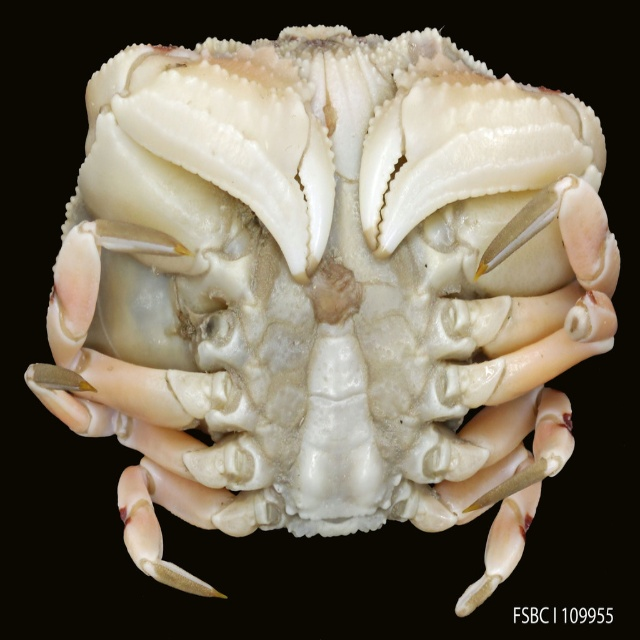Crab: (24, 21, 624, 621)
